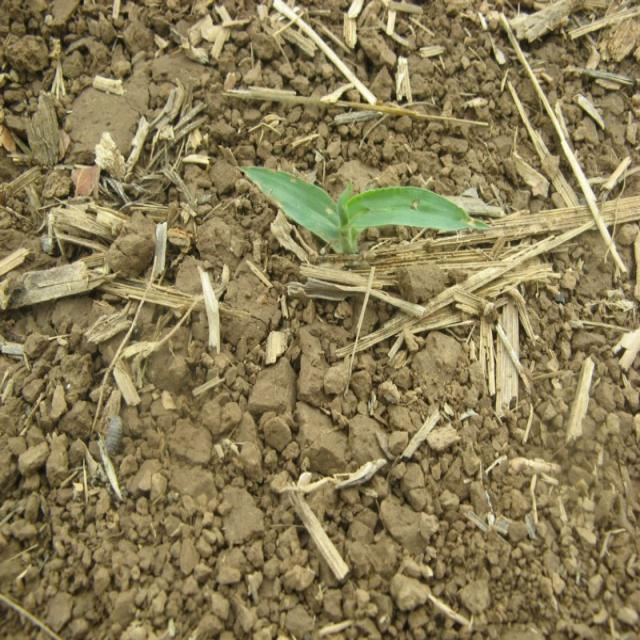bg: (241, 159, 474, 257)
